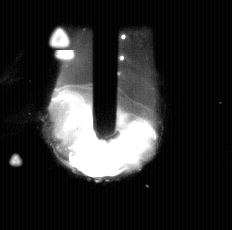arame: (94, 0, 118, 142)
poca: (43, 0, 162, 230)
